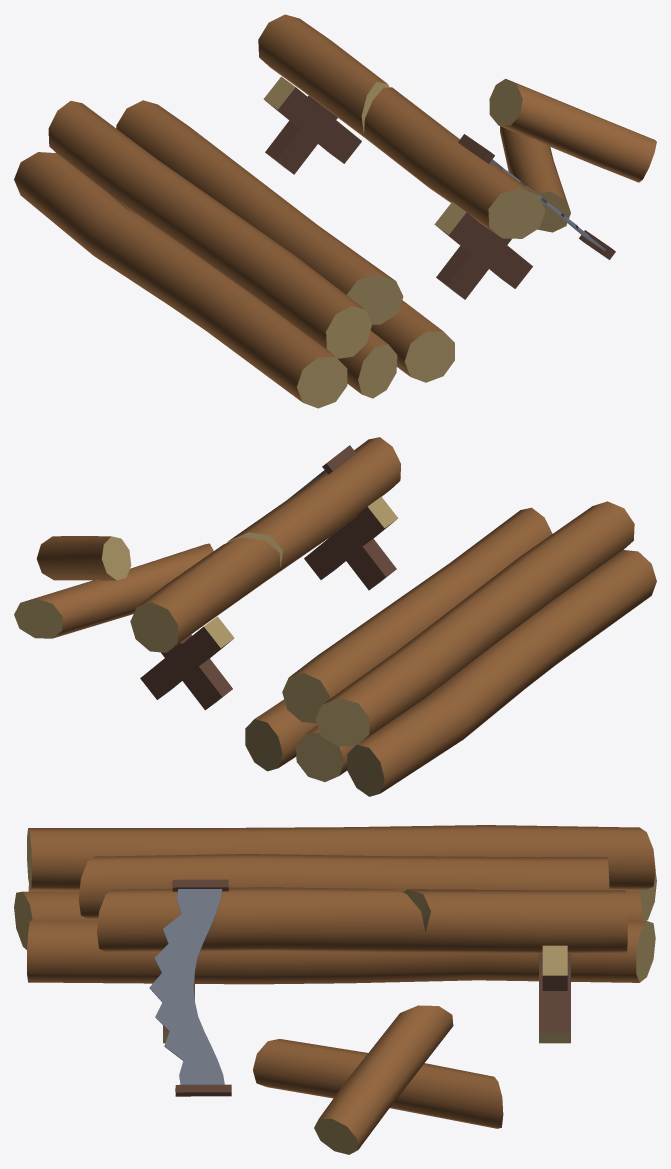
Rendered from Sawmill.glb.
The picture shows the model from 3 angles, top to bottom: view 1: azimuth 30°, elevation 25°; view 2: azimuth 150°, elevation 25°; view 3: azimuth 270°, elevation 25°; orthographic projection. The views are drawn at different scales.
Parts seen in each view (by area): view 1: Environment_Sawmill; view 2: Environment_Sawmill; view 3: Environment_Sawmill.
Boxes of the visible parts, x1=… form: Environment_Sawmill: x1=14, y1=14, x2=656, y2=408; Environment_Sawmill: x1=14, y1=437, x2=656, y2=796; Environment_Sawmill: x1=14, y1=825, x2=656, y2=1154.
Size of the model in its own units: 2.07 by 0.5934 by 2.06.
1 material, 1 textured.
